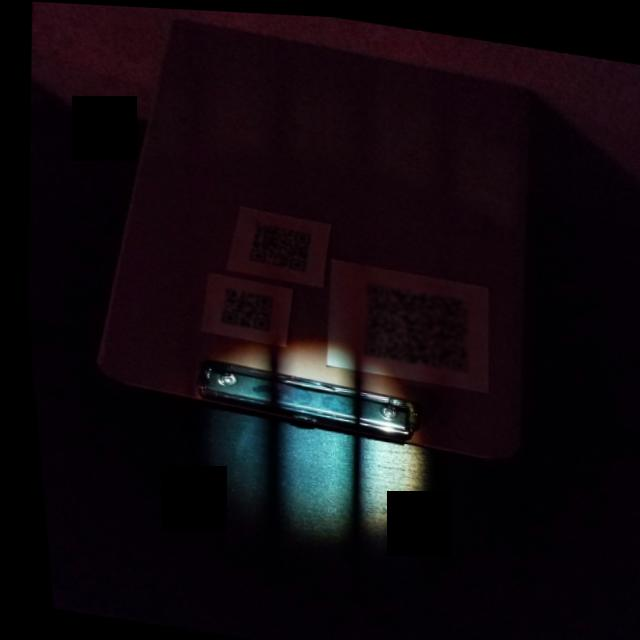QR_CODE: (344, 268, 479, 381), (231, 211, 321, 279), (203, 277, 278, 340)
